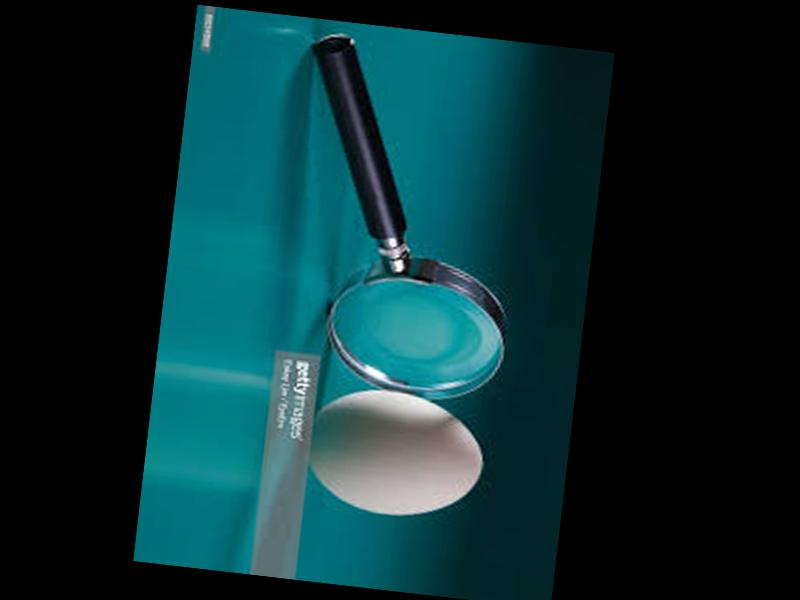Eggs: (301, 381, 490, 525)
